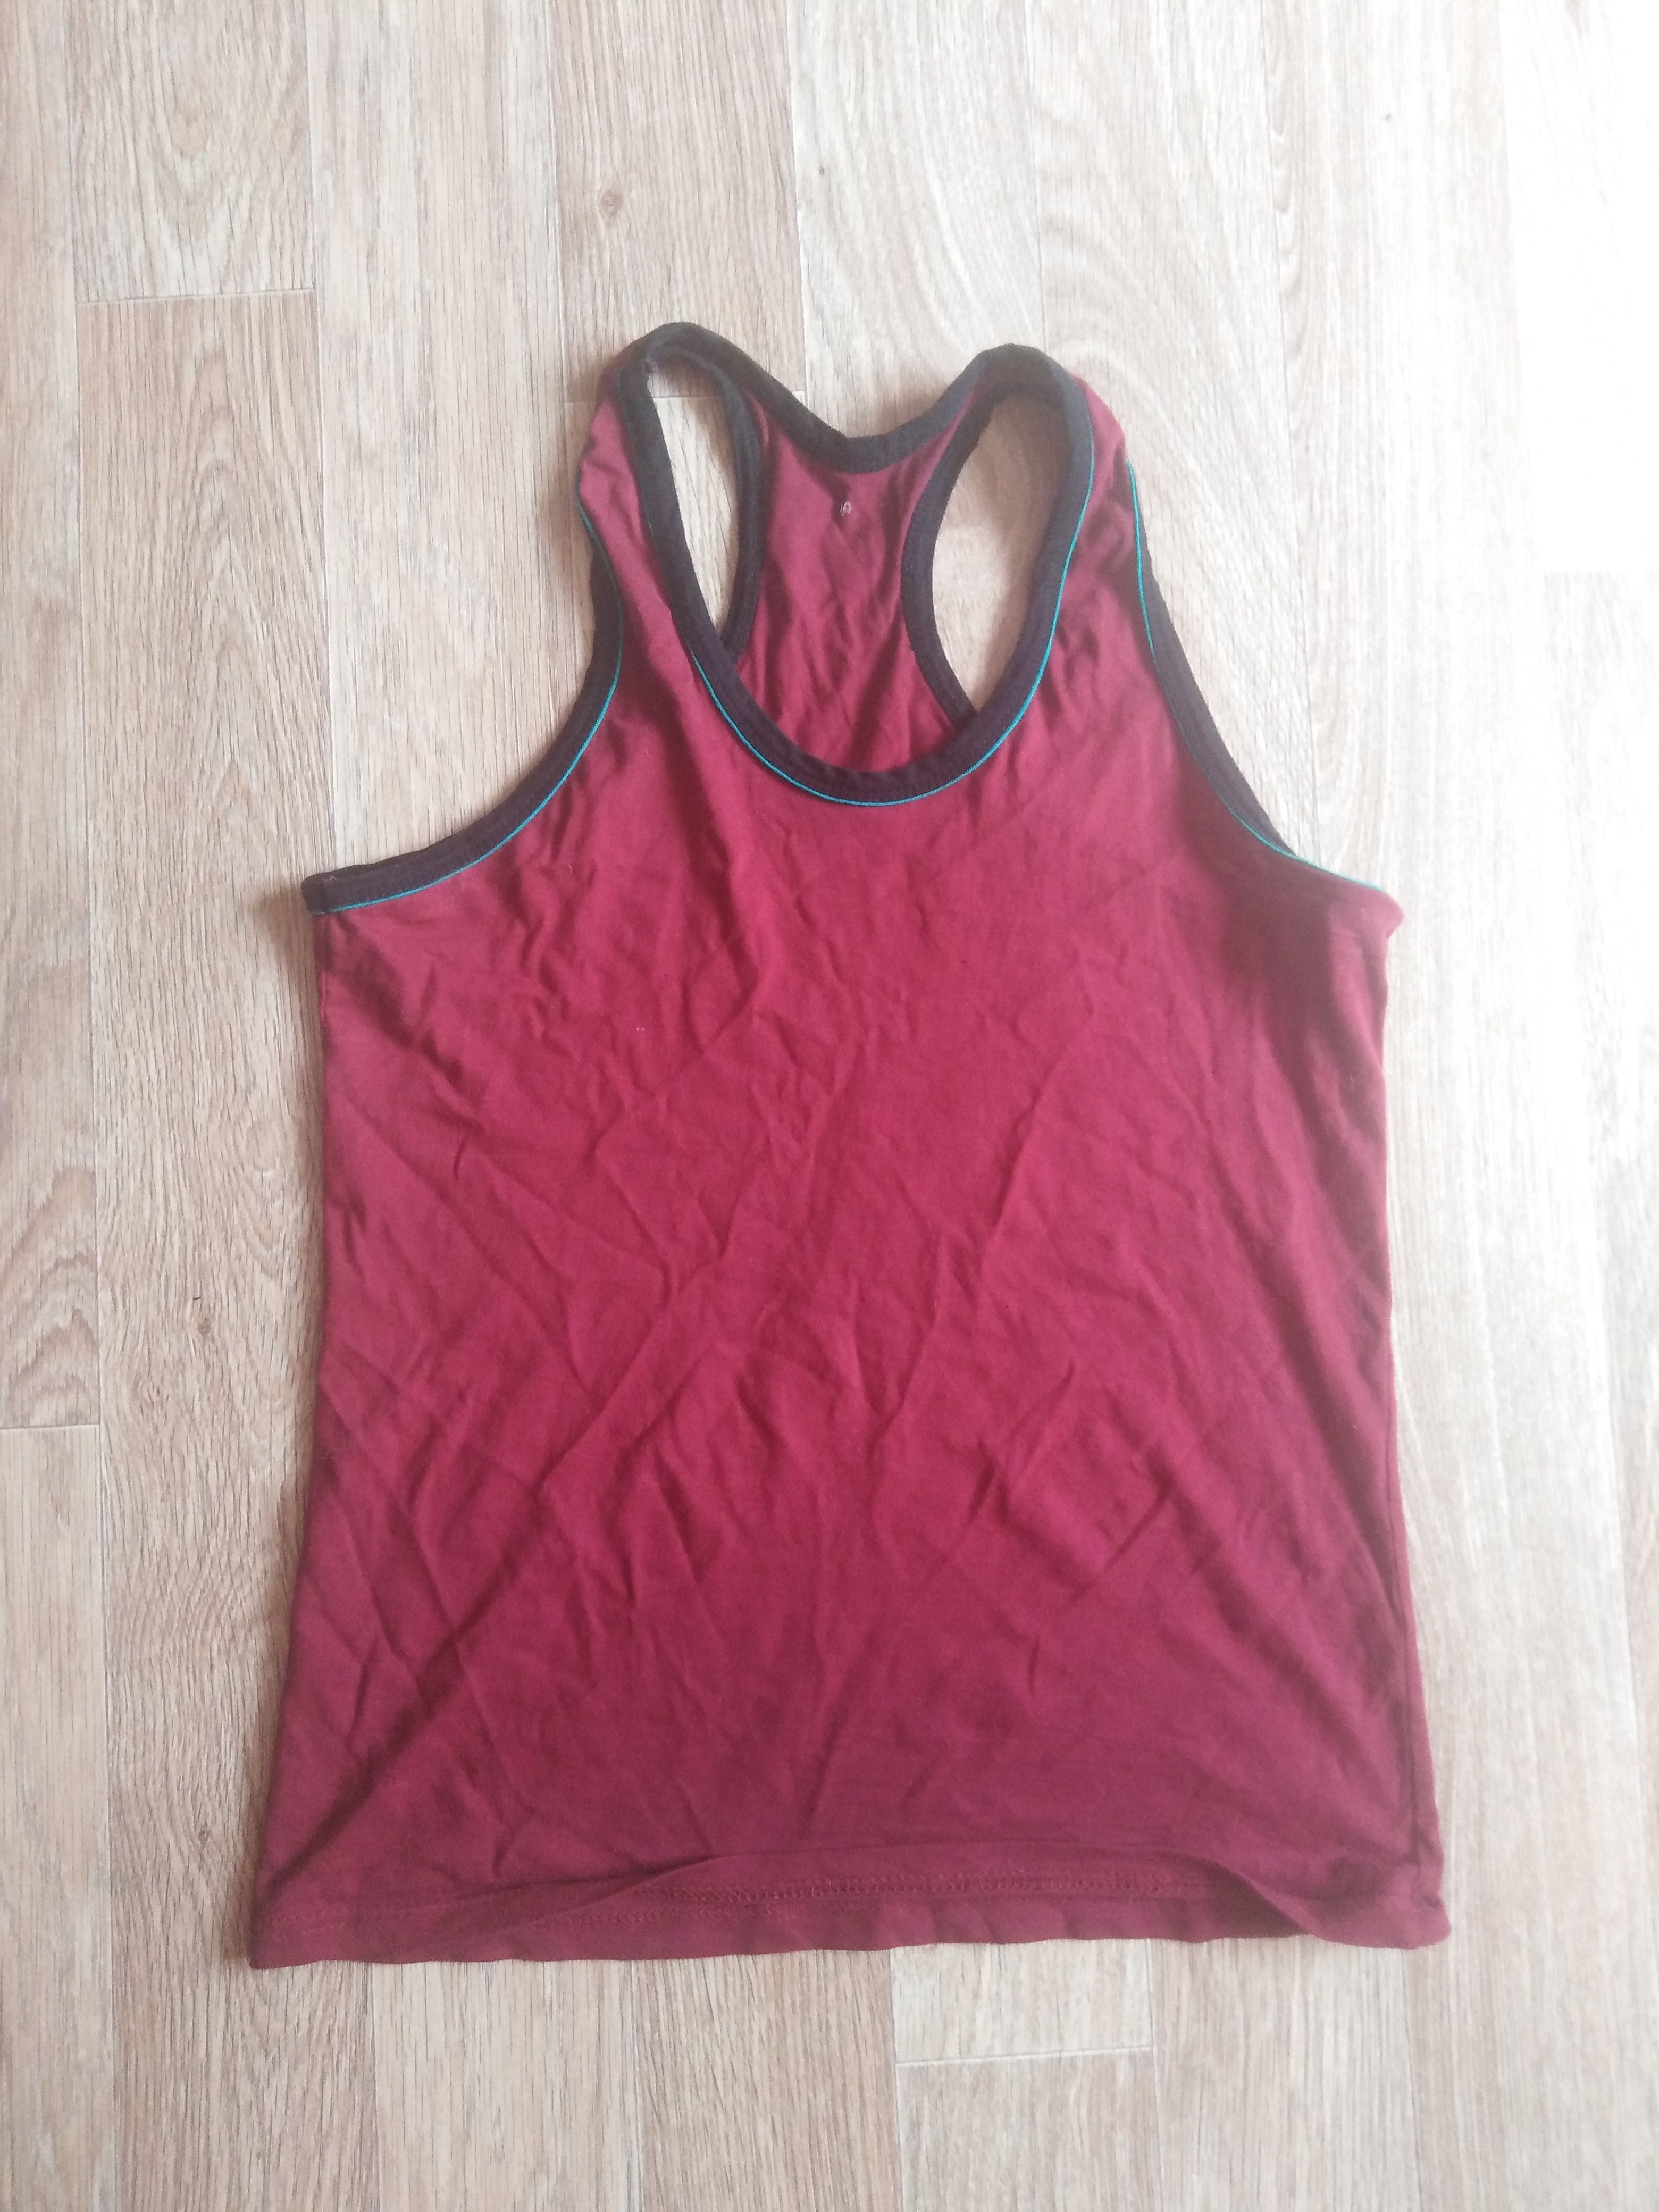clothes: (240, 322, 1464, 1968)
